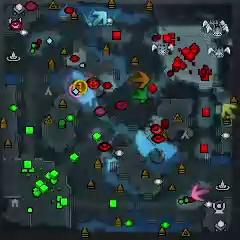Other: (73, 80, 88, 95), (69, 84, 84, 97)
x1: (191, 183, 210, 203)
x2: (222, 103, 236, 119)
x3: (92, 10, 107, 26)
x4: (130, 84, 148, 100)
x5: (131, 71, 149, 87)
